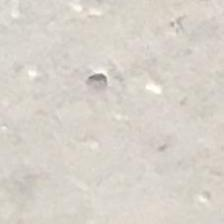Non_Crack: (29, 40, 213, 183)
